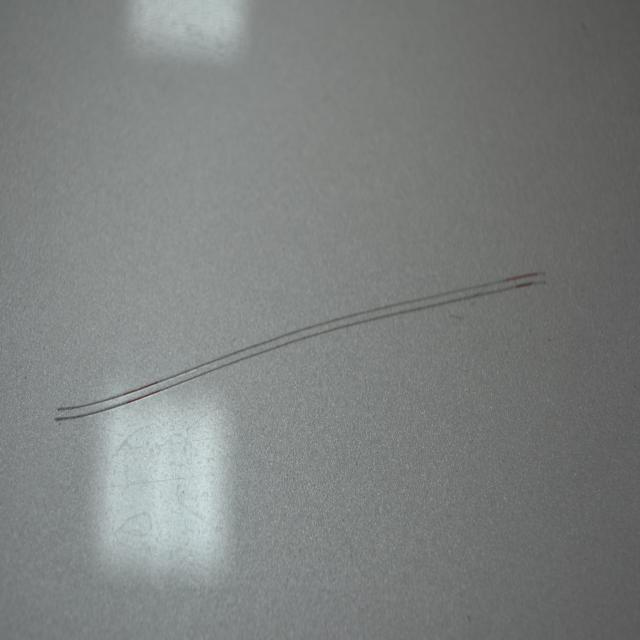scratch: (52, 258, 554, 430)
